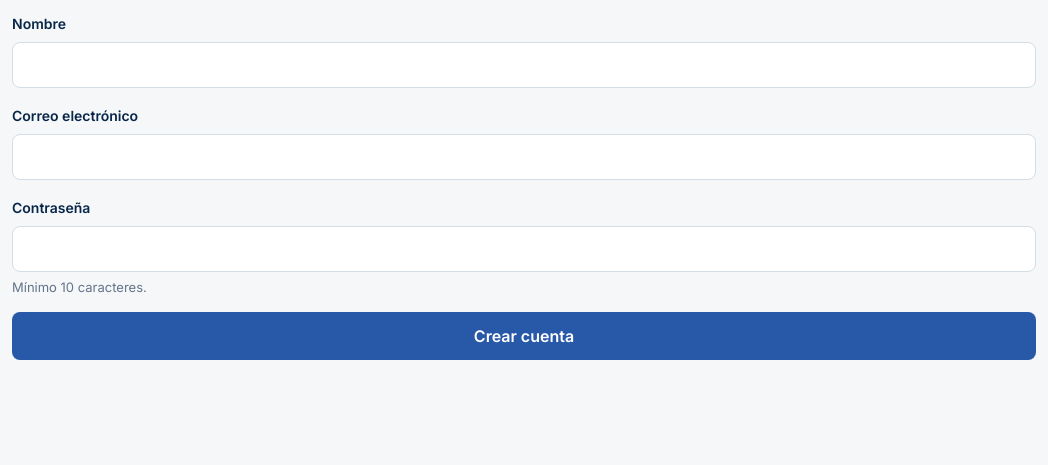
Test case: RegisterForm › muestra el error del servidor cuando el correo ya existe
The width and height of the screenshot is (1048, 465).
Step 1. Type "Ana" into the field labelled "Nombre" → (524, 65), box x1=12 y1=42 x2=1036 y2=88
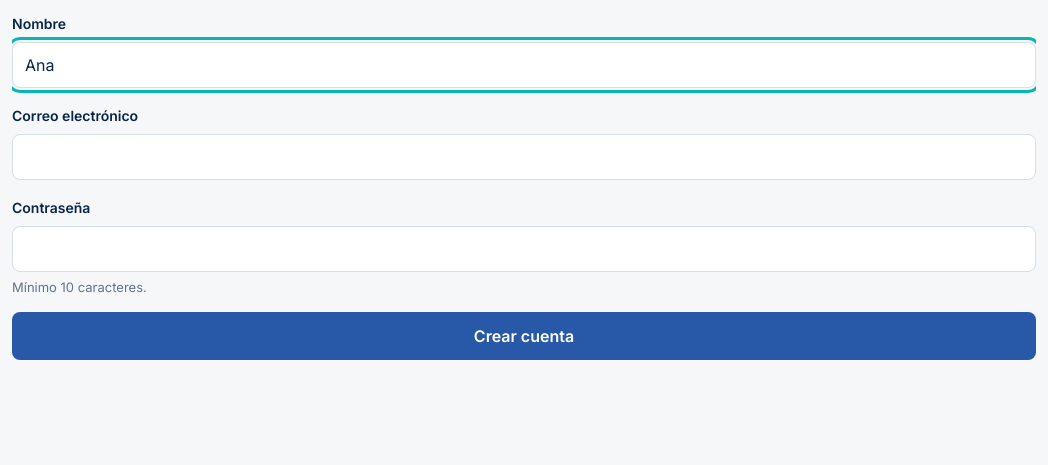
Step 2. Type "ana@example.com" into the field labelled "Correo electrónico" → (524, 157), box x1=12 y1=134 x2=1036 y2=180
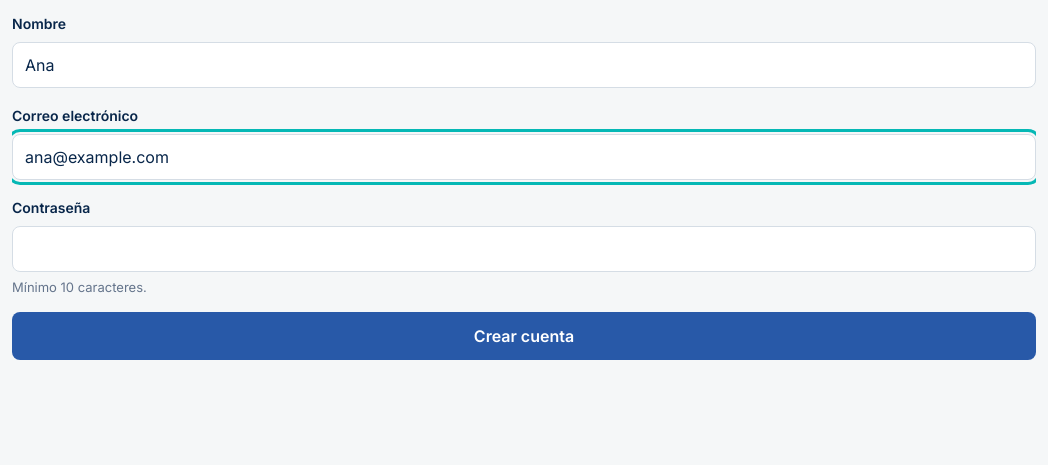
Step 3. Type "contraseña-segura" into the password field labelled "Contraseña" → (524, 249), box x1=12 y1=226 x2=1036 y2=272
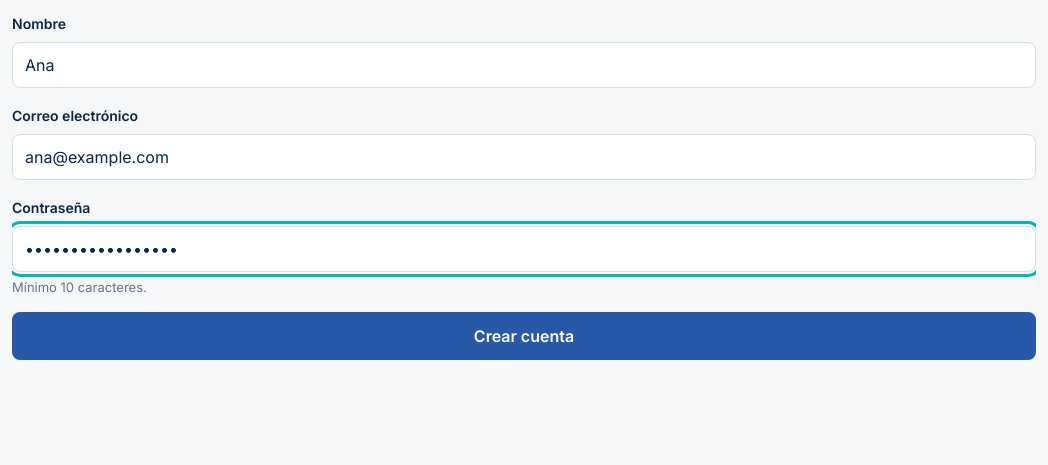
Step 4. Click the button "Crear cuenta" → (524, 336), box x1=12 y1=312 x2=1036 y2=360
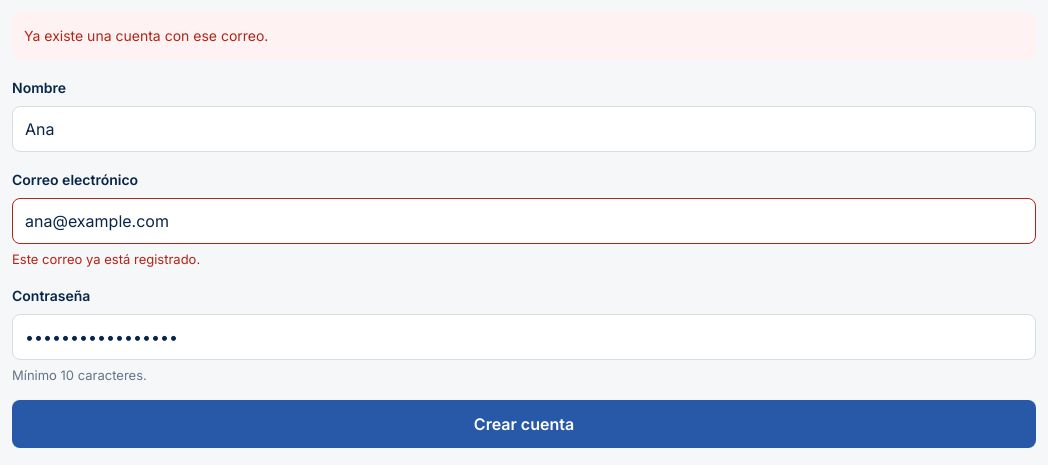
Now the message shows "Ya existe una cuenta", box x1=24 y1=27 x2=268 y2=44
Now the text "Este correo ya está registrado." is shown, box x1=12 y1=251 x2=200 y2=267
